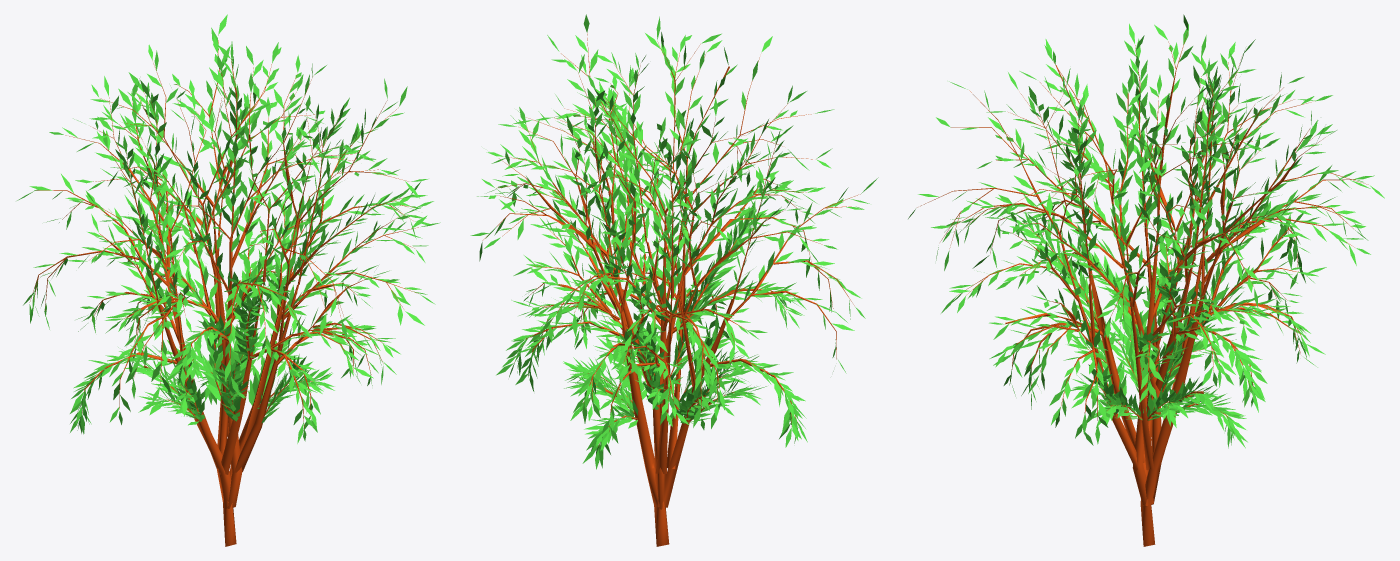
The model's file is tree test 0.8 leaves 0.5.fbx.
3 views of the same model, side by side, from view 1: azimuth 30°, elevation 25°; view 2: azimuth 150°, elevation 25°; view 3: azimuth 270°, elevation 25° (orthographic). The views are drawn at different scales.
Visible parts, largest first — view 1: leaves, tree; view 2: leaves, tree; view 3: leaves, tree.
Boxes of the visible parts, box(x1,y1,x2,y2) form: leaves: box(17, 14, 440, 443); tree: box(29, 35, 418, 546); leaves: box(470, 14, 878, 469); tree: box(482, 33, 860, 546); leaves: box(908, 14, 1384, 448); tree: box(917, 32, 1368, 546).
Size of the model in its own units: 680 by 850 by 746.
